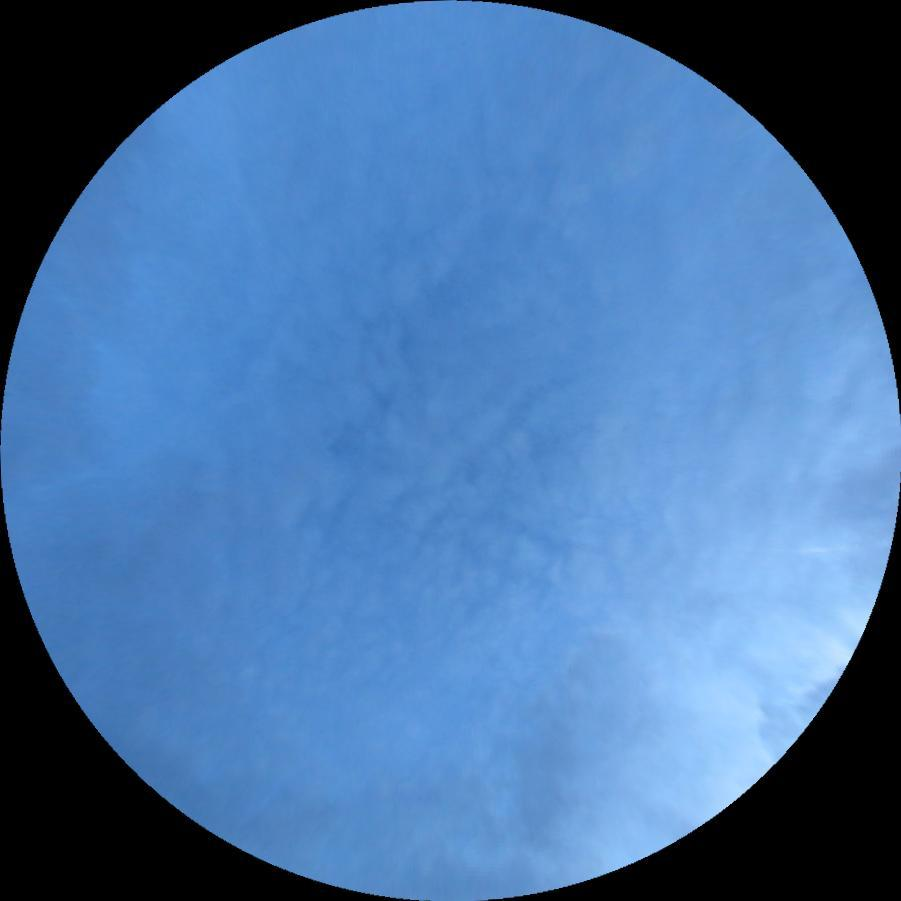unknow: (765, 540, 880, 555)
